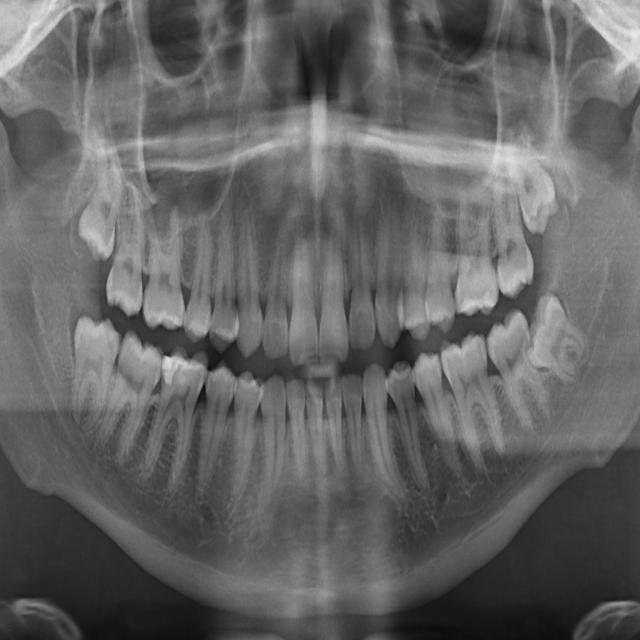3M ESPE Implant: (76, 134, 118, 262)
AGS Medikal Implant: (339, 193, 378, 353)
AMerOss Implant: (373, 167, 406, 350)
Amalgam filling: (403, 212, 432, 342)
Anthogyr Implant: (419, 192, 456, 337)
Bicon Implant: (446, 176, 501, 318)
BioHorizons Implant: (487, 157, 536, 301)
BioLife Implant: (497, 128, 568, 239)
Biomet 3i Implant: (519, 285, 597, 393)
Blue Sky Bio Implant: (478, 304, 556, 442)
Camlog Implant: (436, 328, 510, 478)
Caries: (103, 164, 151, 319)
Composite filling: (408, 349, 466, 485)
Cowellmedi Implant: (383, 357, 431, 495)
Crown: (354, 360, 413, 511)
DENTSPLY Implant: (341, 370, 365, 479)
Dentatus Implant: (322, 373, 348, 480)
Dentis Implant: (304, 376, 327, 480)
Dentium Implant: (285, 375, 313, 492)
Euroteknika Implant: (260, 372, 286, 517)
Filling: (216, 368, 265, 503)
Frontier Implant: (189, 356, 238, 500)
Hiossen Implant: (141, 193, 185, 332)
Implant: (90, 326, 170, 474)
Implant Direct: (137, 342, 212, 502)
Keystone Dental Implant: (66, 313, 123, 438)
MIS Implant: (180, 211, 226, 346)
Mandible: (207, 205, 238, 354)
Maxilla: (234, 184, 266, 360)
Megagen Implant: (261, 206, 293, 361)
Neodent Implant: (281, 209, 319, 369)
Neoss Implant: (312, 209, 350, 366)
